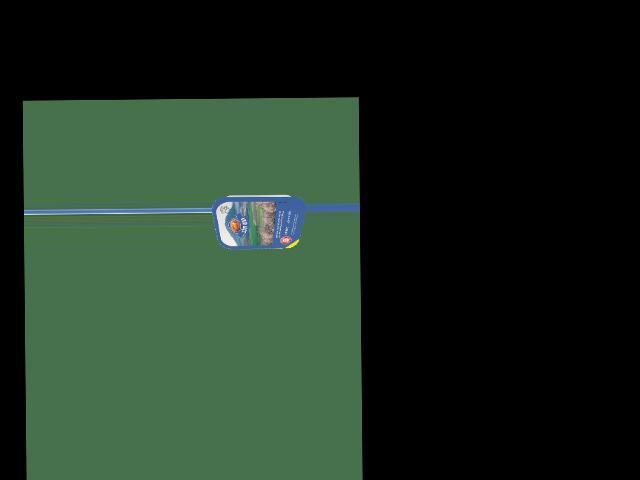cheese: (218, 188, 296, 251)
